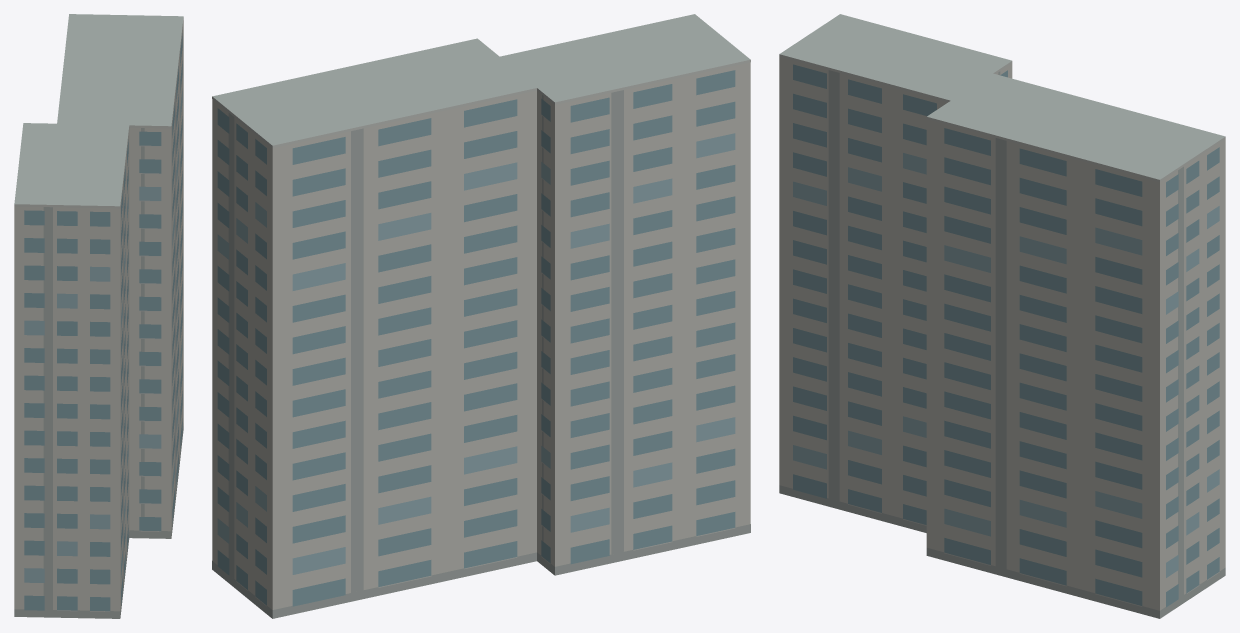
The model's file is residential-0d1e17cb-2e90-4005-9846-7d3f9b879b51.glb.
3 views of the same model, side by side, from view 1: azimuth 30°, elevation 25°; view 2: azimuth 150°, elevation 25°; view 3: azimuth 270°, elevation 25° (orthographic). The views are drawn at different scales.
Parts seen in each view (by area): view 1: residential-0d1e17cb-2e90-4005-9846-7d3f9b879b51.tmp; view 2: residential-0d1e17cb-2e90-4005-9846-7d3f9b879b51.tmp; view 3: residential-0d1e17cb-2e90-4005-9846-7d3f9b879b51.tmp.
Part boxes in pixels (x1,y1,x2,y2): residential-0d1e17cb-2e90-4005-9846-7d3f9b879b51.tmp: [14, 14, 183, 618]; residential-0d1e17cb-2e90-4005-9846-7d3f9b879b51.tmp: [212, 14, 750, 618]; residential-0d1e17cb-2e90-4005-9846-7d3f9b879b51.tmp: [779, 14, 1225, 618].
Bounding box in the file's own units: 35.66 × 44 × 40.55.
